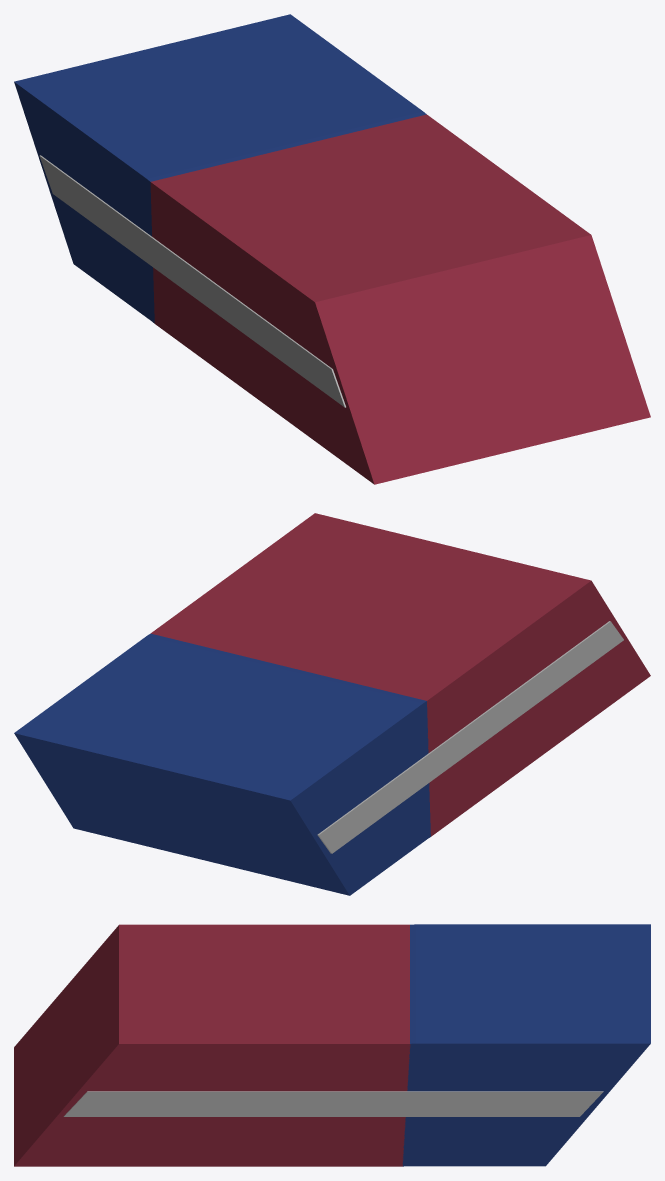
Rendered from eraser.glb.
The picture shows the model from 3 angles, top to bottom: view 1: azimuth 30°, elevation 25°; view 2: azimuth 150°, elevation 25°; view 3: azimuth 270°, elevation 25°; orthographic projection. The views are drawn at different scales.
Parts seen in each view (by area): view 1: Cube.001, Cube.003, Cube, Cube.004; view 2: Cube.001, Cube.003, Cube, Cube.004; view 3: Cube.001, Cube.003, Cube.004.
Boxes of the visible parts, x1=… form: Cube.001: x1=150, y1=114, x2=650, y2=484; Cube.003: x1=14, y1=14, x2=426, y2=181; Cube: x1=14, y1=82, x2=154, y2=323; Cube.004: x1=39, y1=155, x2=345, y2=407; Cube.001: x1=151, y1=513, x2=650, y2=836; Cube.003: x1=14, y1=633, x2=426, y2=800; Cube: x1=14, y1=701, x2=430, y2=895; Cube.004: x1=317, y1=621, x2=623, y2=853; Cube.001: x1=14, y1=924, x2=410, y2=1166; Cube.003: x1=402, y1=924, x2=650, y2=1166; Cube.004: x1=63, y1=1091, x2=603, y2=1116.
Bounding box in the file's own units: 1.55 × 0.7363 × 3.46.
